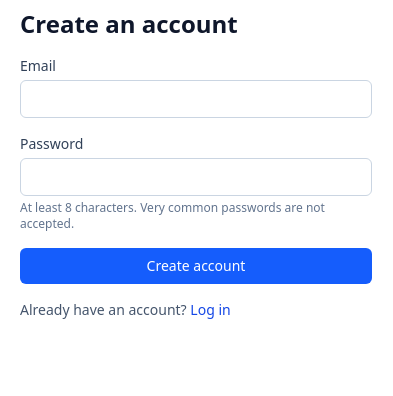
Test: RegisterForm › displays server-side field validation errors next to the relevant field
Type "student@example.org" into the field labelled "Email".
click(196, 99); type("student@example.org")  # box [20,80,372,118]
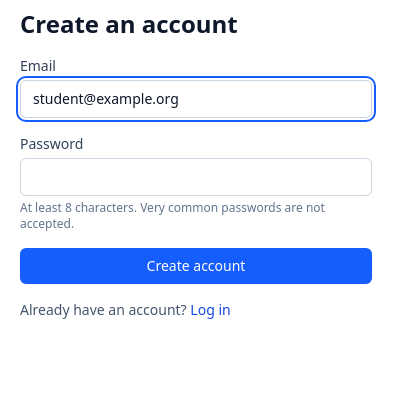
Type "password1" into the password field labelled "Password".
click(196, 177); type("password1")  # box [20,158,372,196]
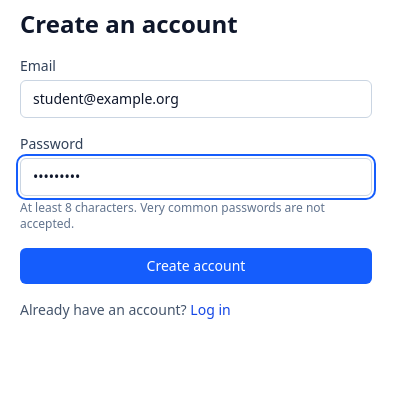
Click the button "Create account".
click(196, 266)  # box [20,248,372,284]
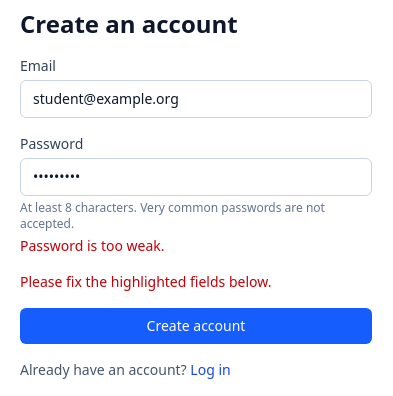
Expected: the text "Password is too weak." is shown, [20,236,164,255]
